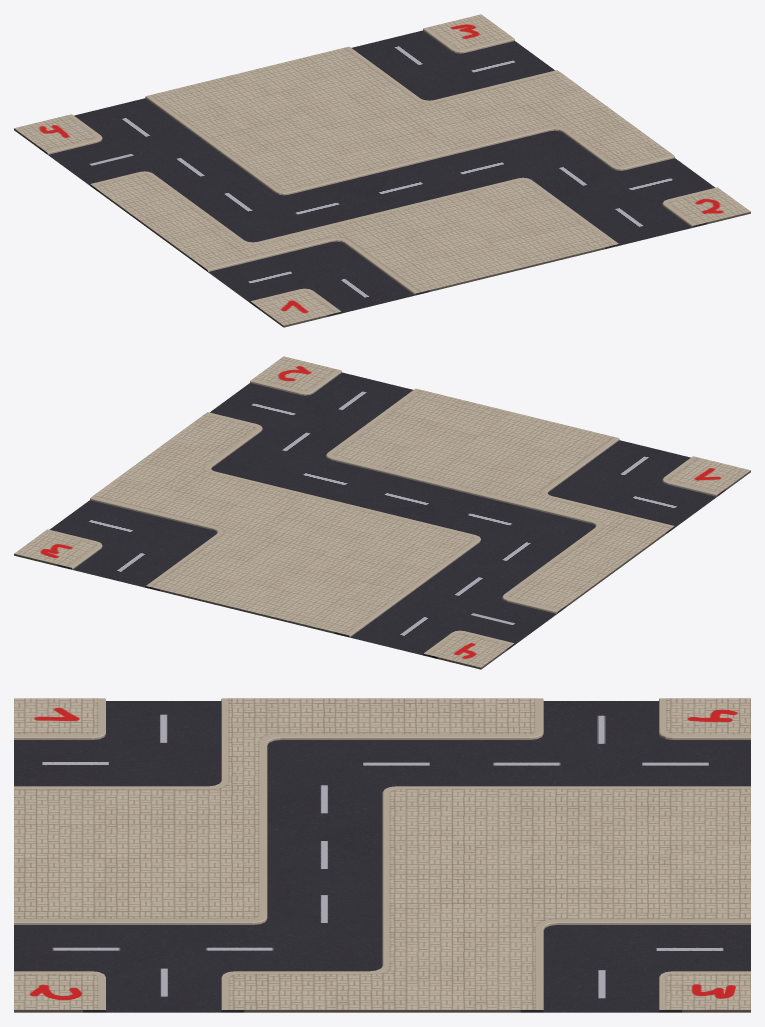
Rendered from tilebase.glb.
The picture shows the model from 3 angles, top to bottom: view 1: azimuth 30°, elevation 25°; view 2: azimuth 150°, elevation 25°; view 3: azimuth 270°, elevation 25°; orthographic projection. The views are drawn at different scales.
Parts seen in each view (by area): view 1: Plane.001; view 2: Plane.001; view 3: Plane.001.
Boxes of the visible parts, bbox=[...] form: Plane.001: bbox=[14, 14, 750, 327]; Plane.001: bbox=[14, 356, 750, 669]; Plane.001: bbox=[14, 698, 750, 1012].
Bounding box in the file's own units: 100 × 0.3901 × 100.
1 material, 1 textured.
